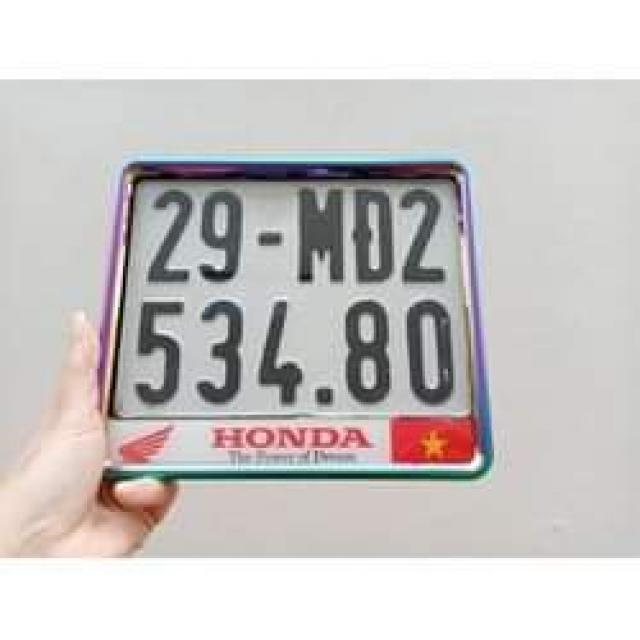0: (404, 297, 456, 404)
2: (399, 187, 448, 284), (146, 187, 192, 281)
3: (197, 297, 246, 404)
4: (256, 300, 305, 407)
5: (130, 297, 184, 407)
8: (343, 297, 394, 404)
9: (197, 187, 243, 281)
B: (351, 182, 397, 284)
D: (351, 184, 394, 284)
M: (294, 184, 348, 284)
